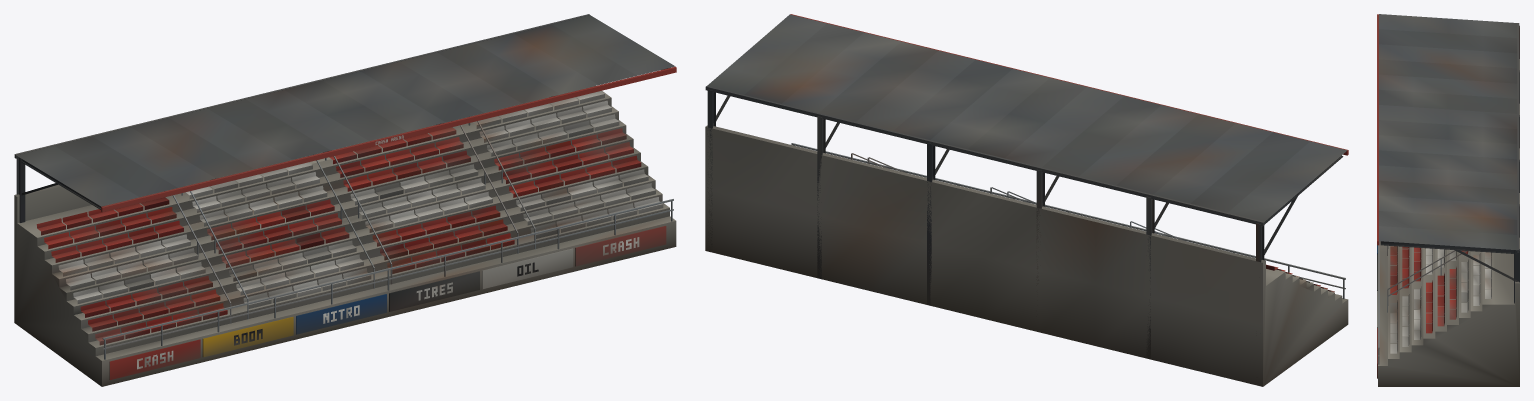
Rendered from grandstand.glb.
3 views of the same model, side by side, from view 1: azimuth 30°, elevation 25°; view 2: azimuth 150°, elevation 25°; view 3: azimuth 270°, elevation 25° (orthographic). The views are drawn at different scales.
Visible parts, largest first — view 1: Grandstand; view 2: Grandstand; view 3: Grandstand.
Part boxes in pixels (left/top/right/bottom): Grandstand: left=14, top=14, right=676, bottom=386; Grandstand: left=705, top=14, right=1348, bottom=386; Grandstand: left=1377, top=14, right=1519, bottom=386.
Bounding box in the file's own units: 30 × 8.98 × 7.97.
